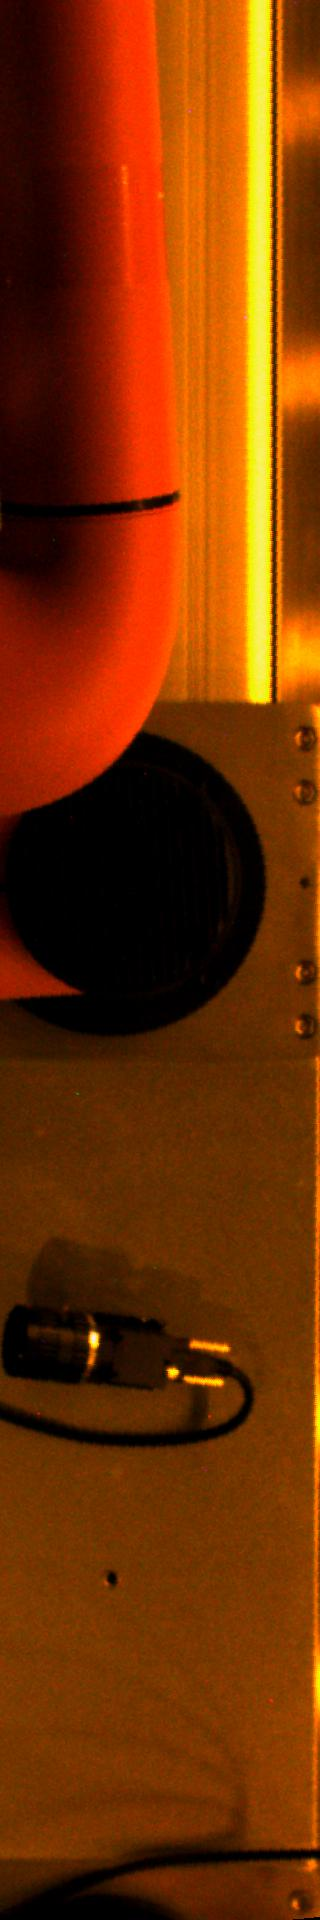keyPoint_2: (97, 1562, 128, 1593)
